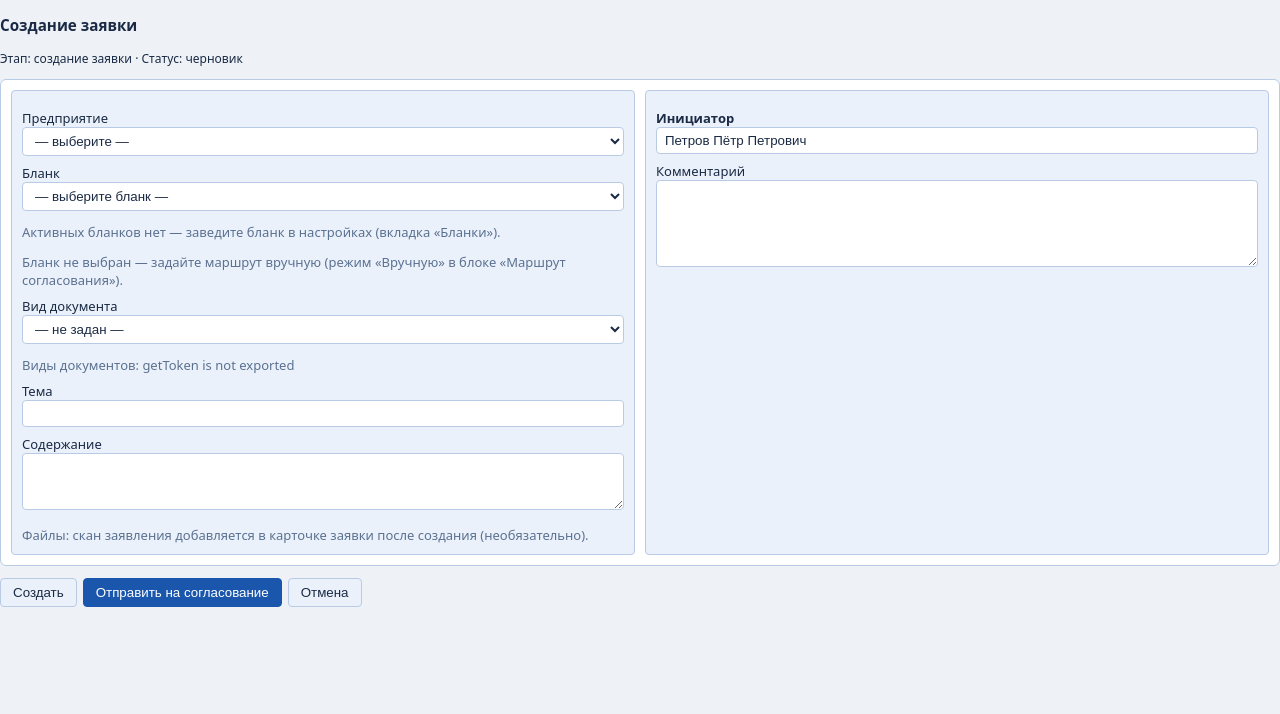
Test case: CreateForm › выбранный сотрудник — ссылка на карточку, крестик возвращает поиск
Select "Предприятие «Пример-1» (вымышленное)" in the dropdown labelled "Предприятие" at (323, 142), box [22, 127, 624, 156]
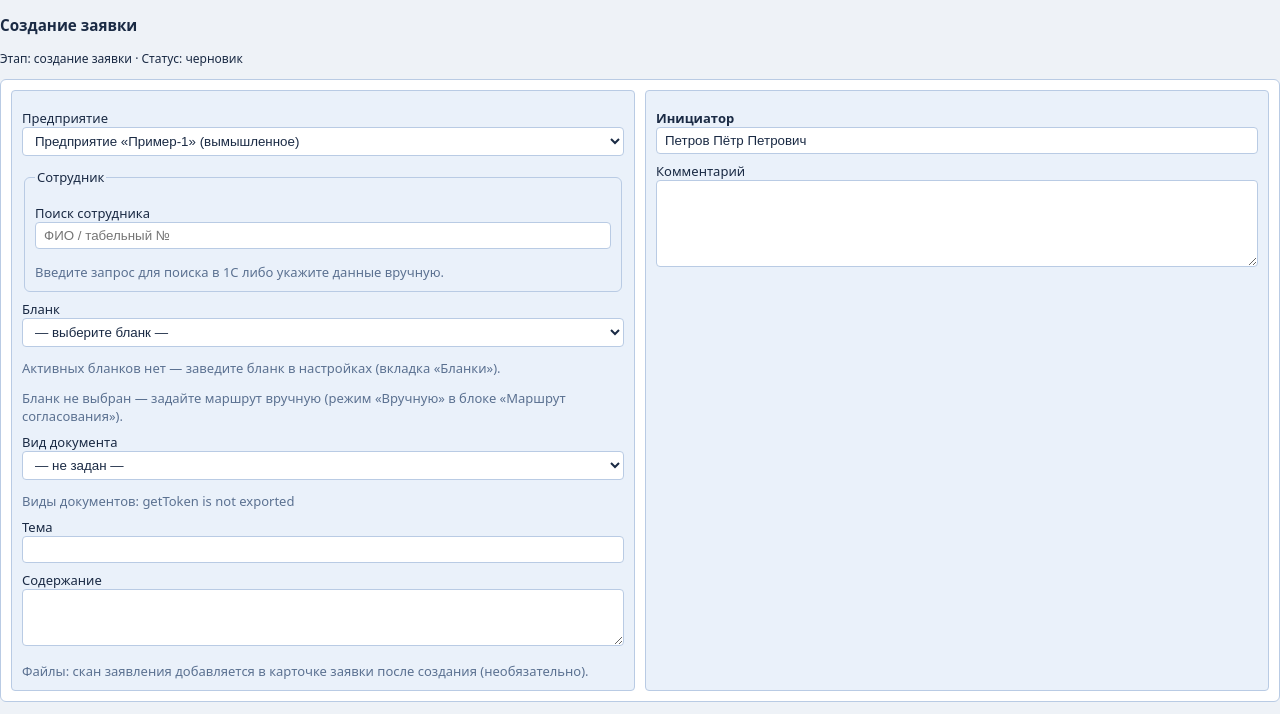
Type "Громов" into the field labelled "Поиск сотрудника" at (323, 236), box [35, 222, 611, 249]
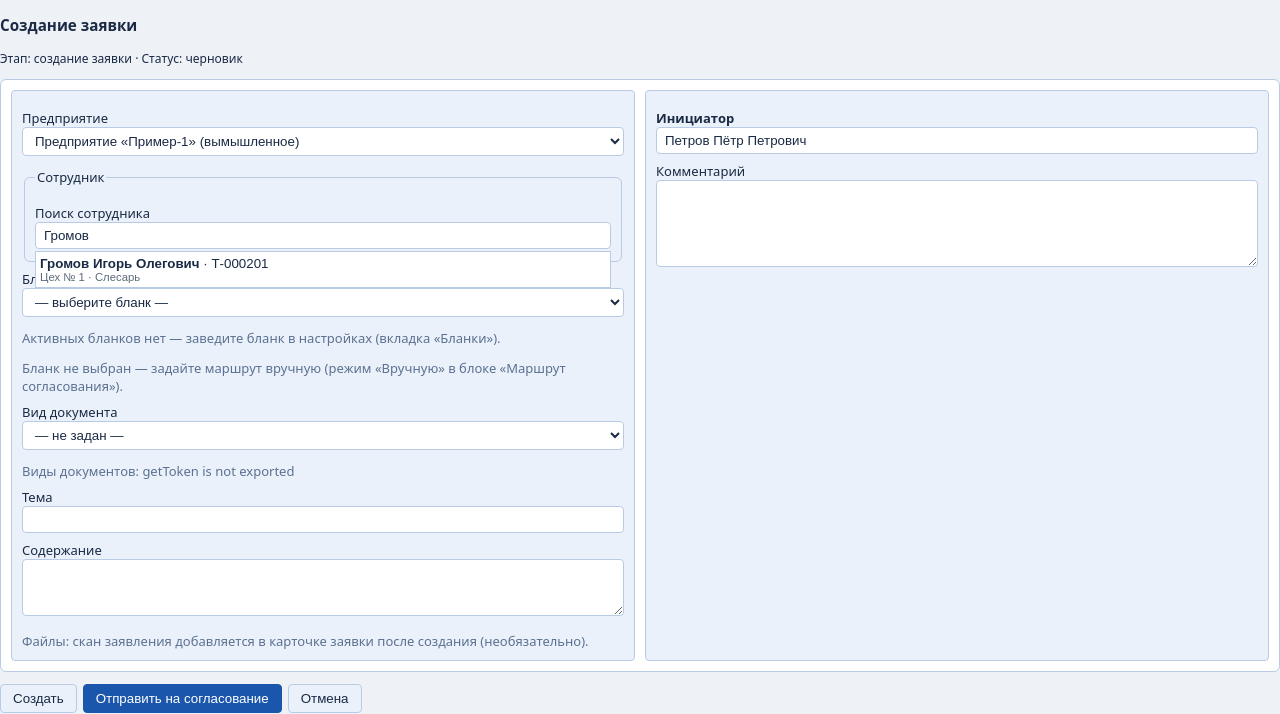
Expected: the text "Громов Игорь Олегович" is shown
Click the text "Громов Игорь Олегович" at (120, 264), box [40, 256, 200, 271]
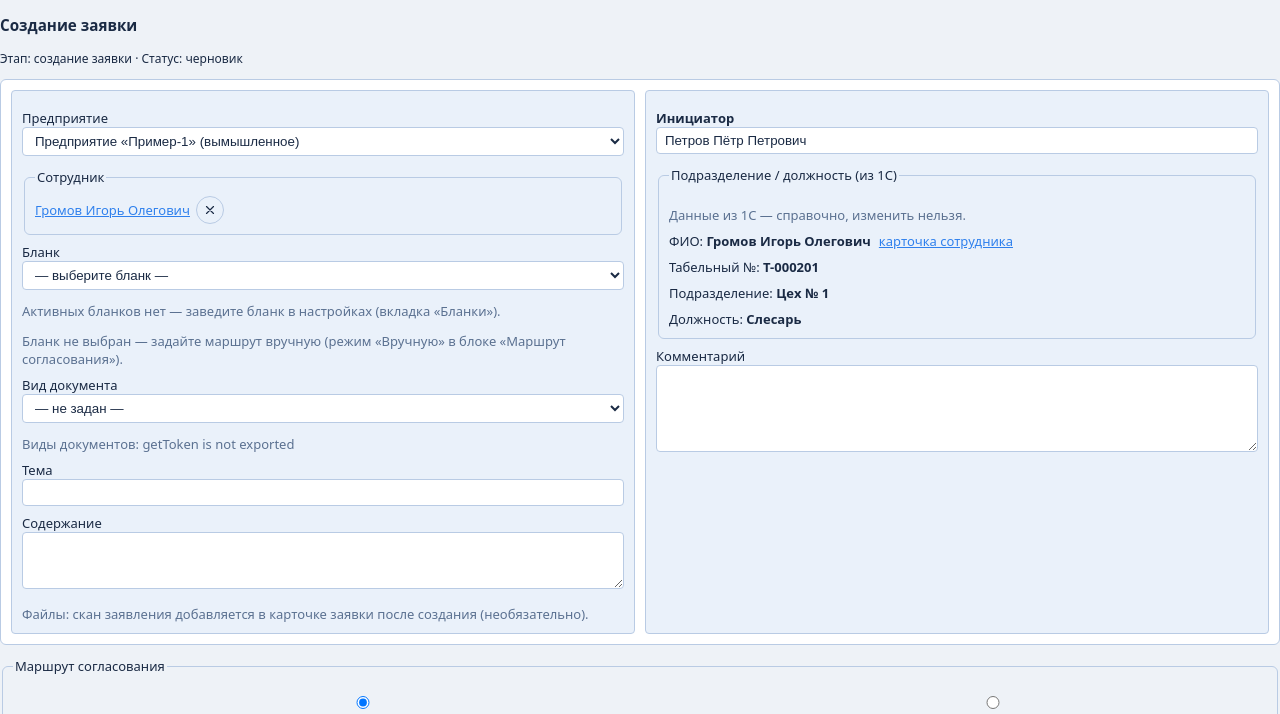
Expected: the label labelled "Поиск сотрудника" is gone
# Очистка возвращает поле поиска.
Click the button named "Очистить выбор сотрудника" at (210, 210), box [196, 196, 224, 224]
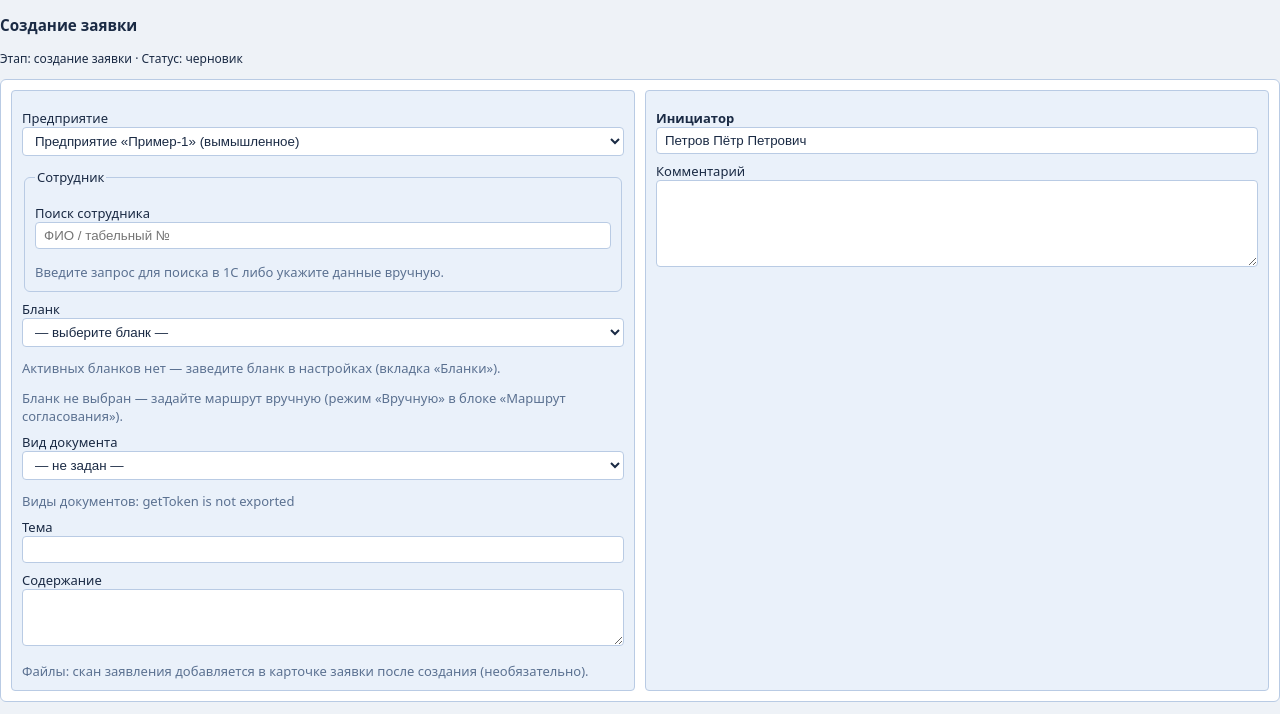
Expected: the field labelled "Поиск сотрудника" is shown, [35, 222, 611, 249]
